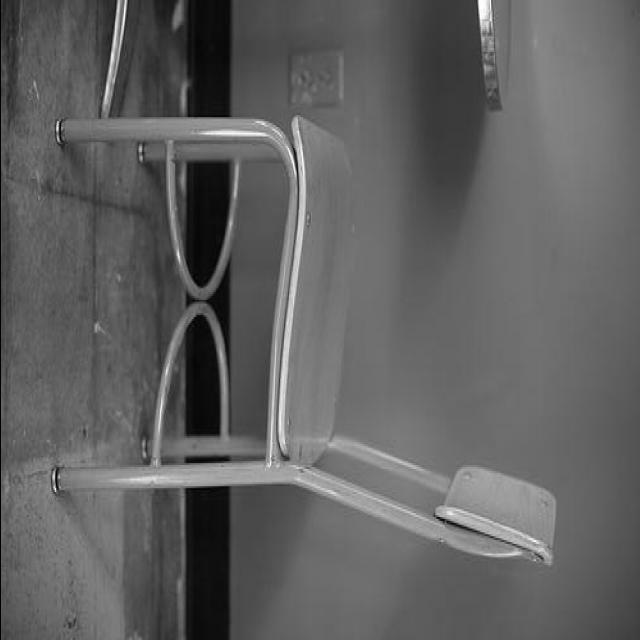chair: (51, 116, 558, 584)
